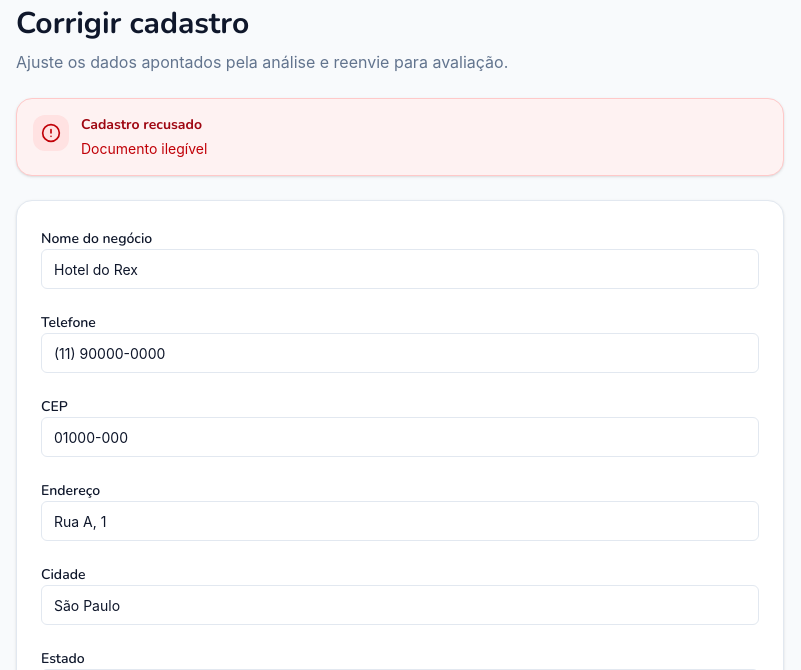
não salva nem reenvia com zip_code inválido
Expected: the heading "Cadastro recusado" is shown, [81, 115, 207, 135]
Replace the text in the field with id "zip_code" with "123" at {"x": 400, "y": 437}, box [41, 417, 759, 457]
(page scrolled)
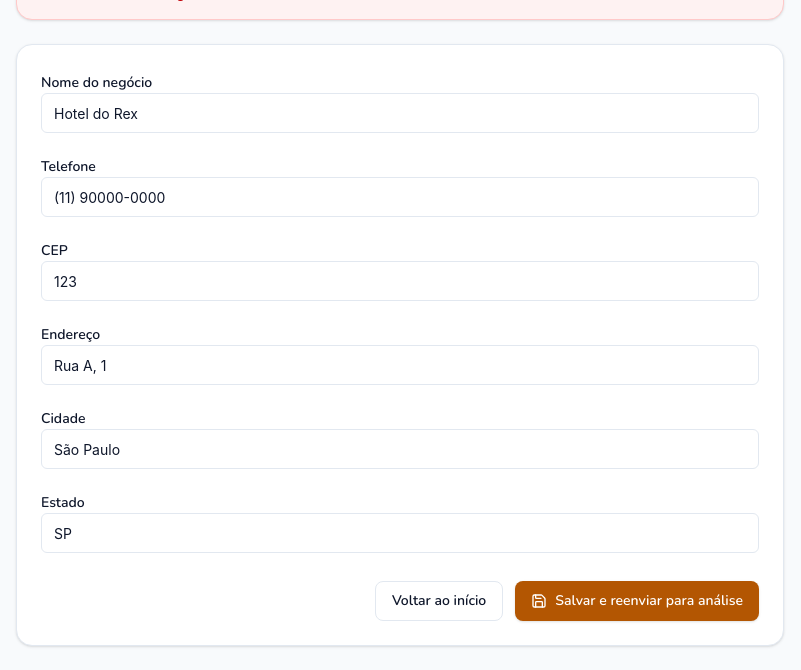
Click the button "Salvar e reenviar para análise" at {"x": 637, "y": 601}, box [515, 581, 759, 621]
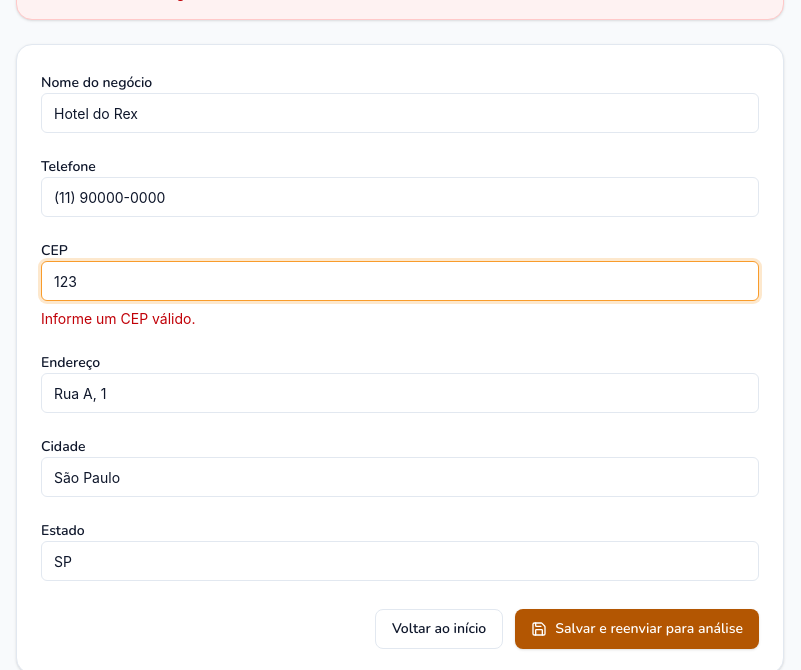
Expected: the text "Informe um CEP válido." is shown, [41, 310, 196, 327]
